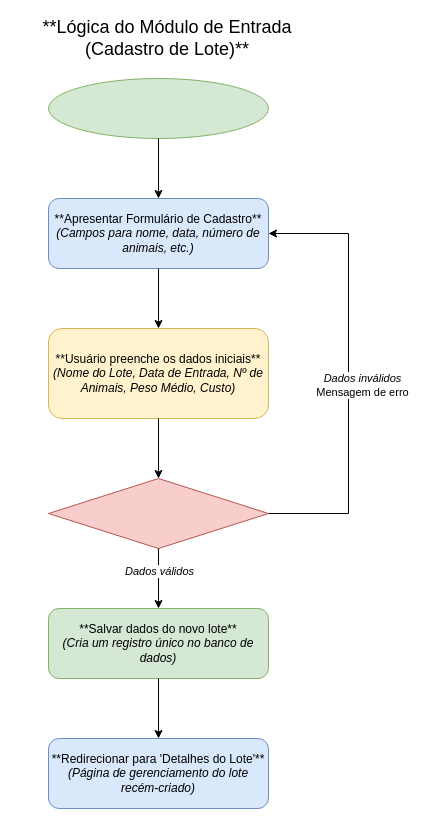
This 425x826 diagram has some shape labels left out. The shapes that lost their labels are listed below. From the top down, each one's centre as x and y in pixels, then its label:
At point (158, 108): "**Entrada (Usuário clica em 'Adicionar Novo Lote')**".
At point (158, 513): "**Validar dados** (Campos obrigatórios preenchidos, formato correto)".
